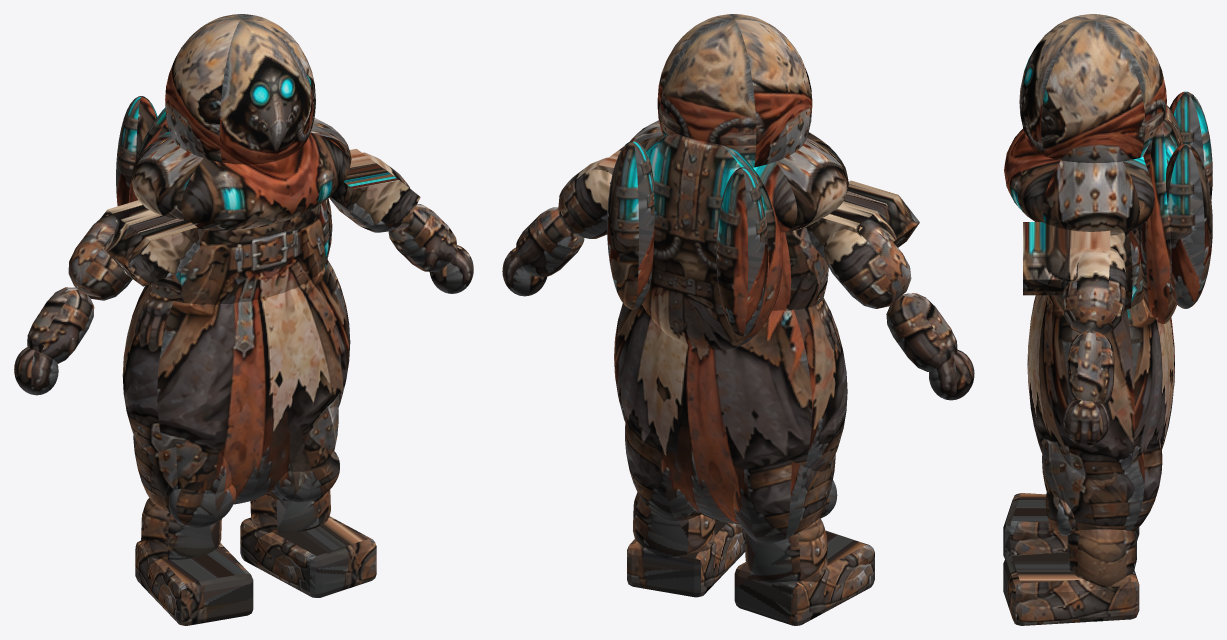
The model's file is ashland-survivor-r18.glb.
3 renders of one model, left to right at view 1: azimuth 30°, elevation 25°; view 2: azimuth 150°, elevation 25°; view 3: azimuth 270°, elevation 25°, orthographic. The views are drawn at different scales.
Parts seen in each view (by area): view 1: Hero | torn coat volume, Hero | hood and gas mask mass, Hero | scarf and collar mass, Hero | armored torso, Hero | scavenger boot R, Hero | scavenger boot L, Hero | faceted pauldron L, Hero | thigh L, Hero | faceted pauldron R, Hero | armored forearm L, Hero | upper sleeve L, Hero | wrapped shin L (+10 smaller); view 2: Hero | torn coat volume, Hero | hood and gas mask mass, Hero | rear pack volume, Hero | reactor tank L, Hero | reactor tank R, Hero | scavenger boot L, Hero | thigh L, Hero | scarf and collar mass, Hero | upper sleeve L, Hero | scavenger boot R, Hero | faceted pauldron L, Hero | wrapped shin L (+8 smaller); view 3: Hero | hood and gas mask mass, Hero | torn coat volume, Hero | scarf and collar mass, Hero | scavenger boot R, Hero | thigh R, Hero | reactor tank R, Hero | rear pack volume, Hero | upper sleeve R, Hero | faceted pauldron R, Hero | wrapped shin R, Hero | armored forearm R, Hero | scavenger boot L (+4 smaller).
Boxes of the visible parts, x1,y1,x2,y2 form: Hero | torn coat volume: (122,259,350,504); Hero | hood and gas mask mass: (165,14,315,164); Hero | scarf and collar mass: (131,118,351,230); Hero | armored torso: (148,198,332,304); Hero | scavenger boot R: (240,516,376,597); Hero | scavenger boot L: (135,540,253,625); Hero | faceted pauldron L: (100,200,199,286); Hero | thigh L: (133,435,231,512); Hero | faceted pauldron R: (331,148,420,225); Hero | armored forearm L: (27,287,94,363); Hero | upper sleeve L: (68,214,132,300); Hero | wrapped shin L: (141,498,221,559); Hero | torn coat volume: (614,297,847,524); Hero | hood and gas mask mass: (657,14,812,167); Hero | rear pack volume: (642,134,782,350); Hero | reactor tank L: (716,167,768,336); Hero | reactor tank R: (607,140,654,309); Hero | scavenger boot L: (734,530,874,625); Hero | thigh L: (733,454,835,543); Hero | scarf and collar mass: (630,120,848,232); Hero | upper sleeve L: (823,221,911,308); Hero | scavenger boot R: (627,520,745,597); Hero | faceted pauldron L: (806,180,919,258); Hero | wrapped shin L: (744,518,827,583); Hero | hood and gas mask mass: (1019,14,1166,163); Hero | torn coat volume: (1027,295,1174,480); Hero | scarf and collar mass: (1004,128,1154,235); Hero | scavenger boot R: (1003,552,1139,625); Hero | thigh R: (1042,438,1162,531); Hero | reactor tank R: (1166,143,1212,308); Hero | rear pack volume: (1137,105,1183,323); Hero | upper sleeve R: (1062,247,1126,334); Hero | faceted pauldron R: (1023,222,1110,295); Hero | wrapped shin R: (1067,529,1136,586); Hero | armored forearm R: (1067,330,1114,406); Hero | scavenger boot L: (1003,493,1139,558).
Bounding box in the file's own units: 1.75 × 2.05 × 0.6957.
Materials: 4 (4 with a texture image).
